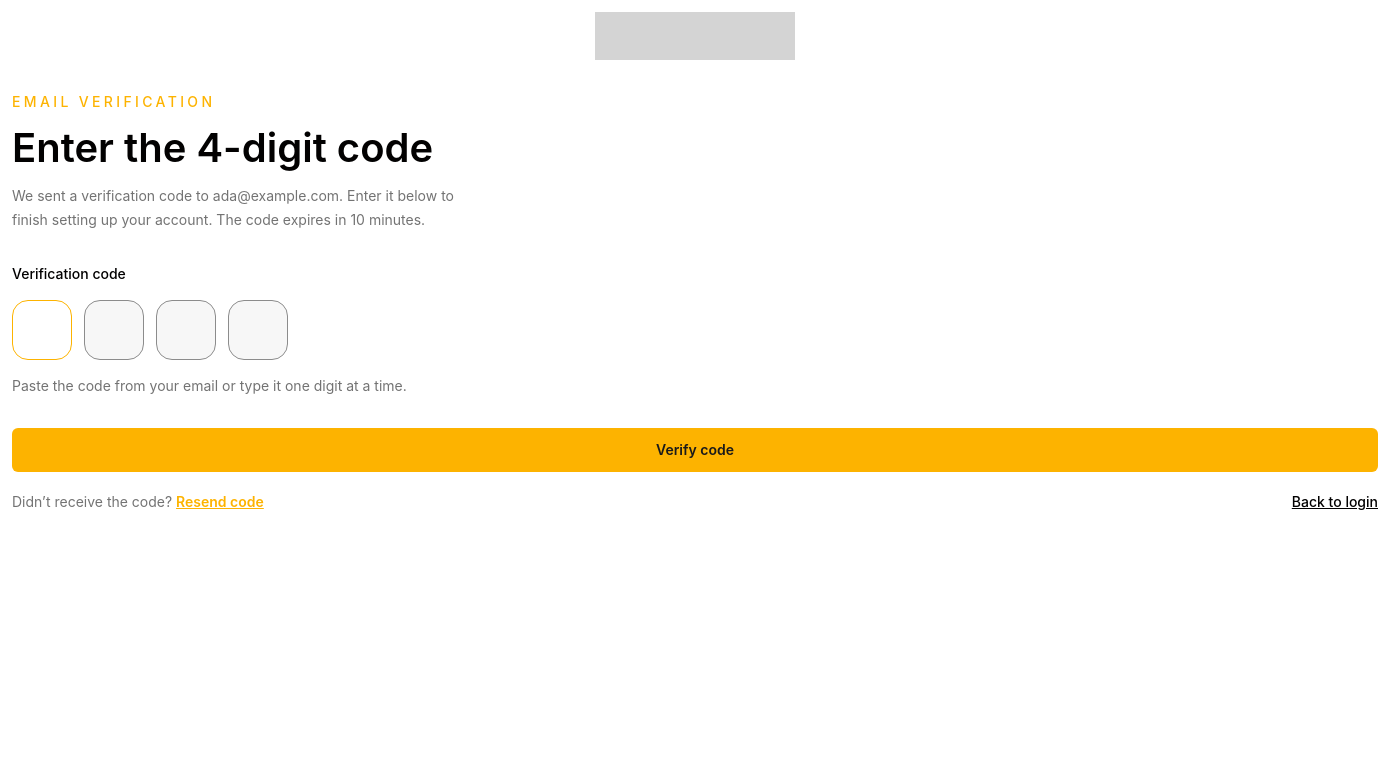
it: VerifyEmail › resends the code and shows a confirmation message
Click the button "Resend code": (220, 502) [176, 492, 264, 512]
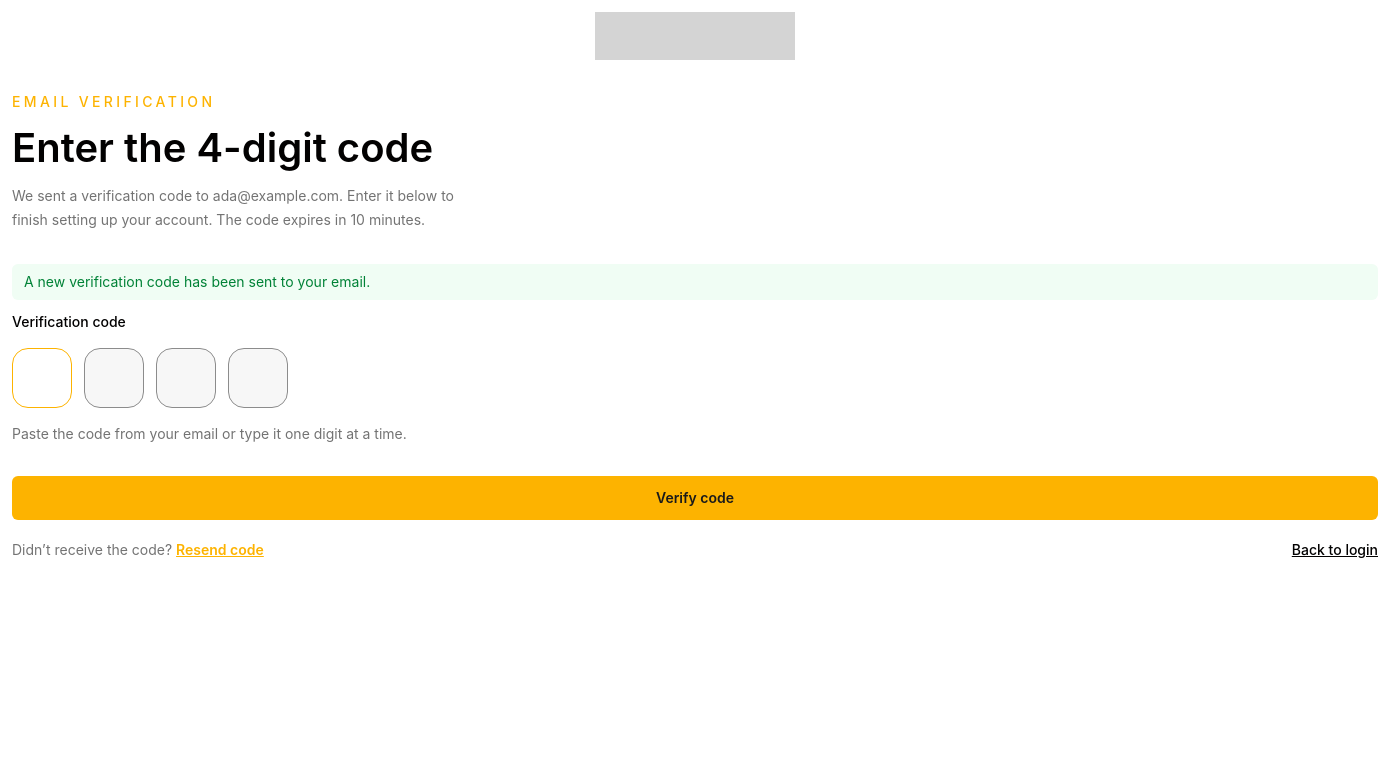
Expected: the text "A new verification code has been sent to your email." is shown, [12, 264, 1378, 300]
